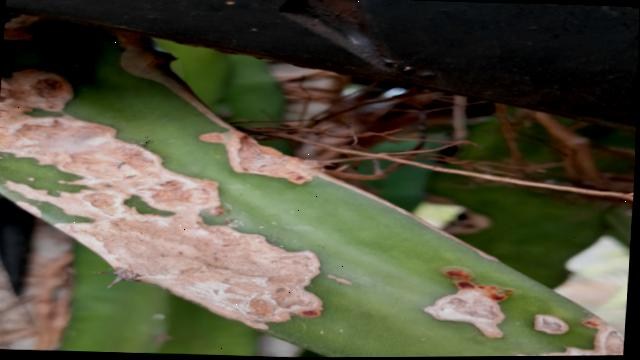stemcanker: (415, 263, 519, 344), (529, 305, 573, 339)
